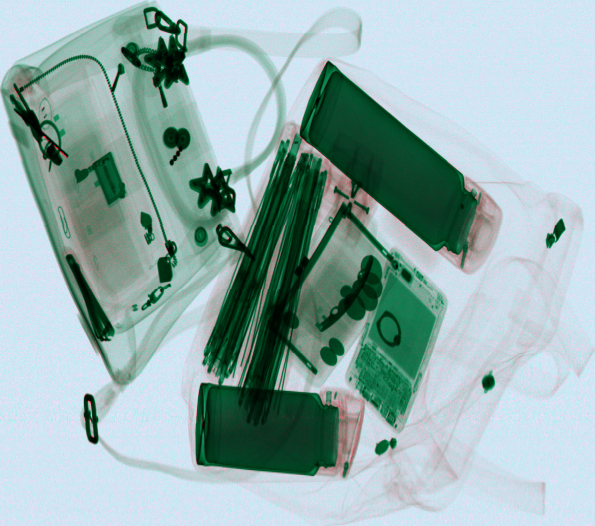Glass Bottle: (300, 61, 503, 276), (195, 383, 366, 479)
